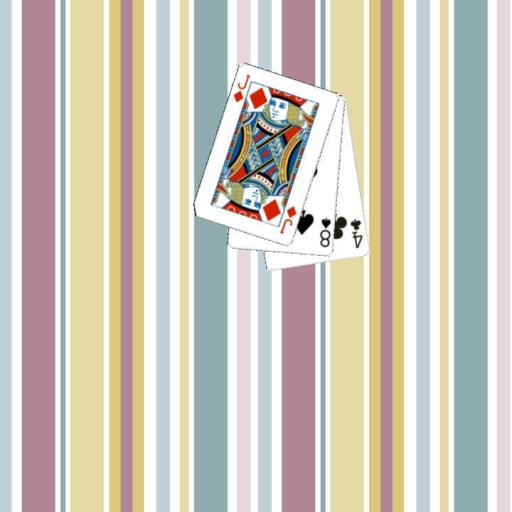4C: (347, 216, 365, 250)
8S: (317, 215, 333, 249)
JD: (230, 71, 252, 105), (277, 204, 299, 236)
